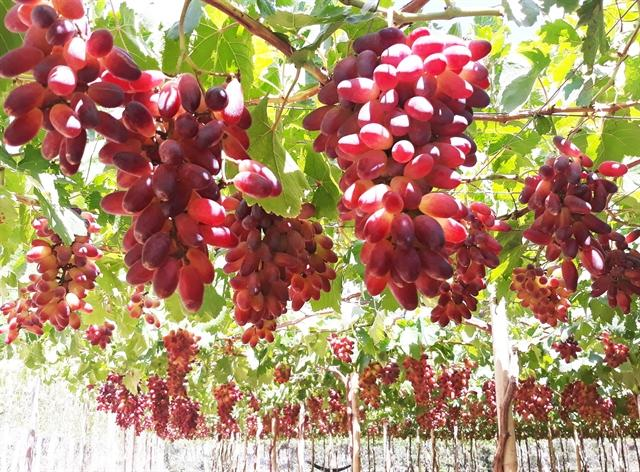grape: (301, 21, 500, 308), (94, 68, 270, 317), (3, 0, 145, 180), (514, 129, 623, 263)
